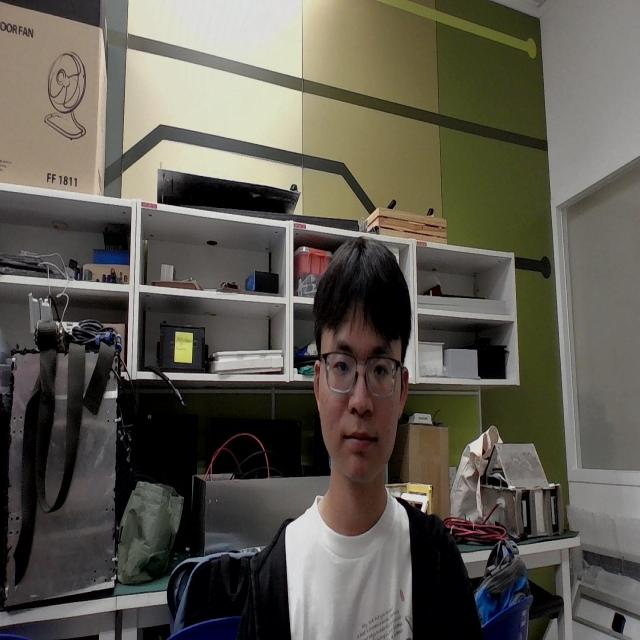Without Helmet: (282, 185, 464, 556)
